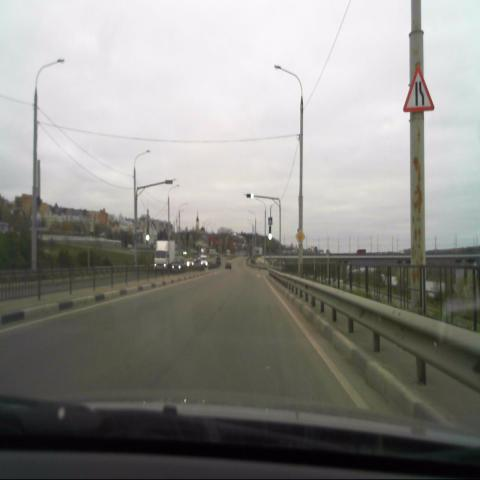1_20_2: (402, 65, 435, 115)
